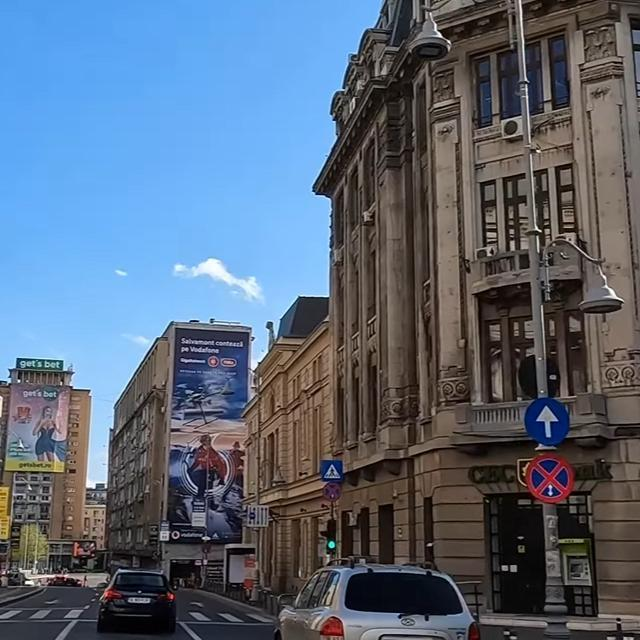forb_waiting: (524, 454, 574, 503)
info_crosswalk: (321, 459, 343, 481)
